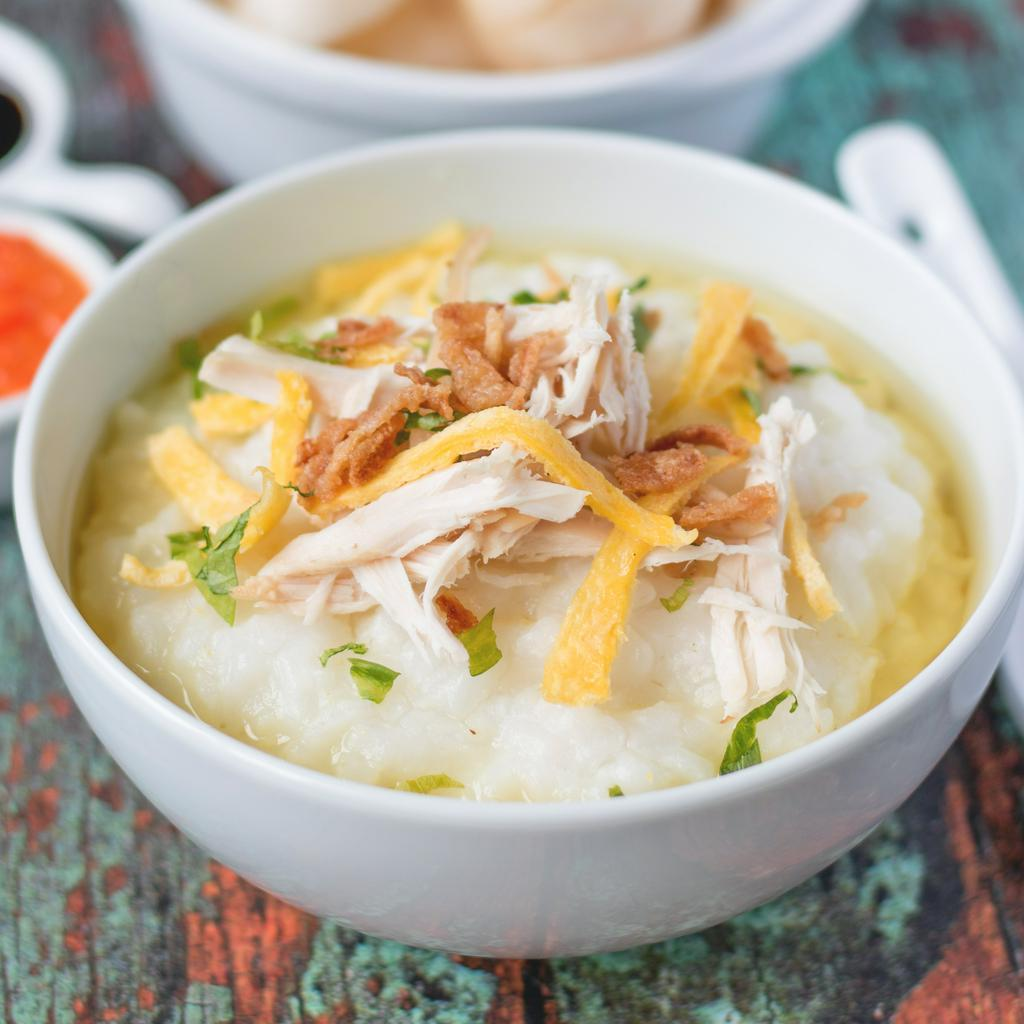soto: (45, 150, 1020, 957)
